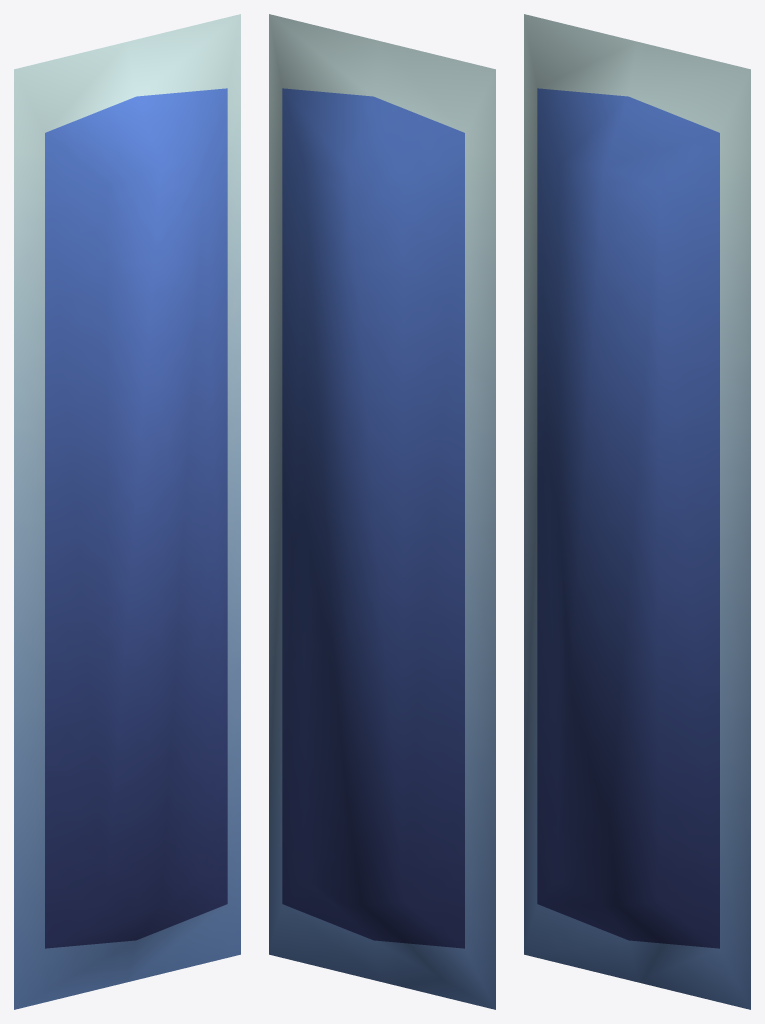
Rendered from m_IcePops04.fbx.
The picture shows the model from 3 angles, left to right: view 1: azimuth 30°, elevation 25°; view 2: azimuth 150°, elevation 25°; view 3: azimuth 330°, elevation 25°; orthographic projection.
Visible parts, largest first — view 1: m_IcePops04; view 2: m_IcePops04; view 3: m_IcePops04.
Part boxes in pixels (box(x1,y1,x2,y2)): m_IcePops04: box(14, 14, 240, 1009); m_IcePops04: box(269, 14, 495, 1009); m_IcePops04: box(524, 14, 750, 1009).
Bounding box in the file's own units: 5.05 × 20 × 2.6.
